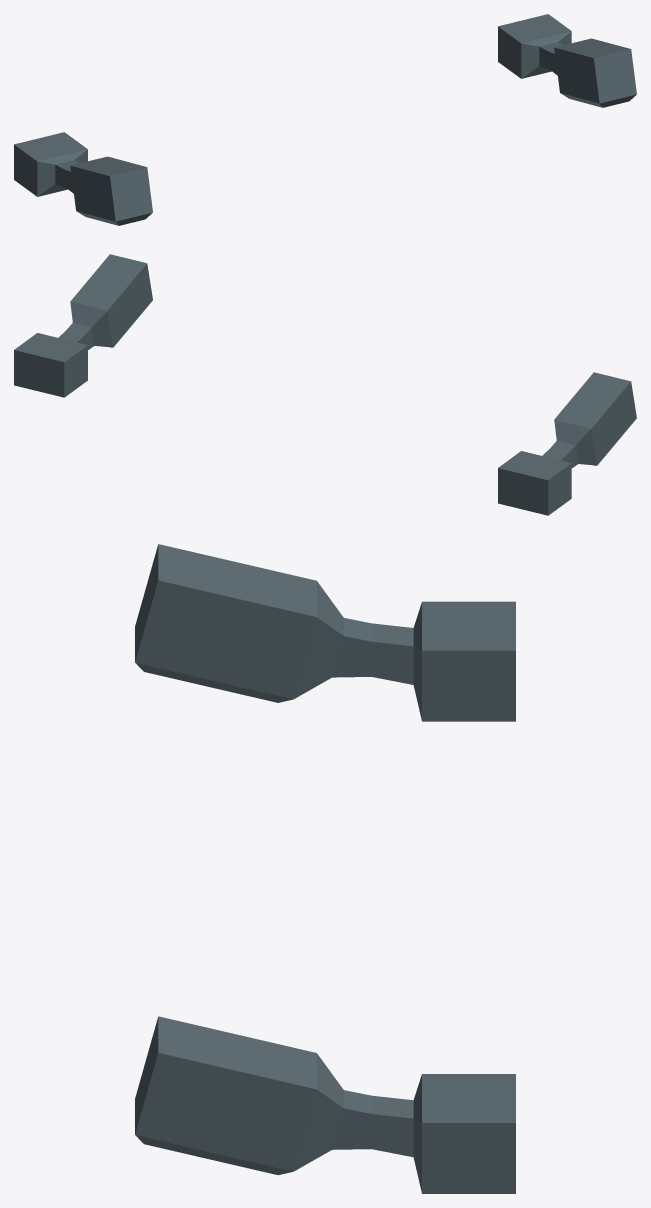
File: WindowLargeAcc_Lights.fbx
The picture shows the model from 3 angles, top to bottom: view 1: azimuth 30°, elevation 25°; view 2: azimuth 150°, elevation 25°; view 3: azimuth 270°, elevation 25°; orthographic projection. The views are drawn at different scales.
Parts seen in each view (by area): view 1: WindowLargeAcc_Lights; view 2: WindowLargeAcc_Lights; view 3: WindowLargeAcc_Lights.
Part boxes in pixels (left/top/right/bottom): WindowLargeAcc_Lights: left=14, top=14, right=636, bottom=225; WindowLargeAcc_Lights: left=14, top=254, right=636, bottom=515; WindowLargeAcc_Lights: left=135, top=544, right=515, bottom=1193.
Size of the model in its own units: 110 by 13.31 by 34.07.
